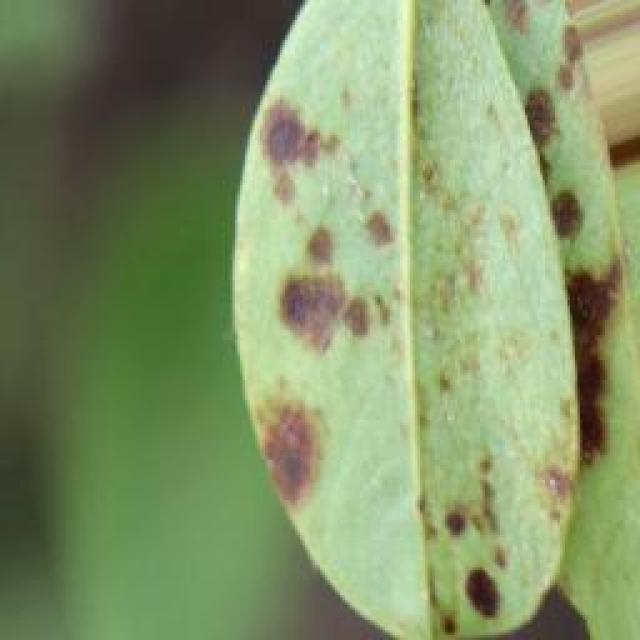Whitefly: (334, 11, 640, 594), (199, 32, 387, 503)
